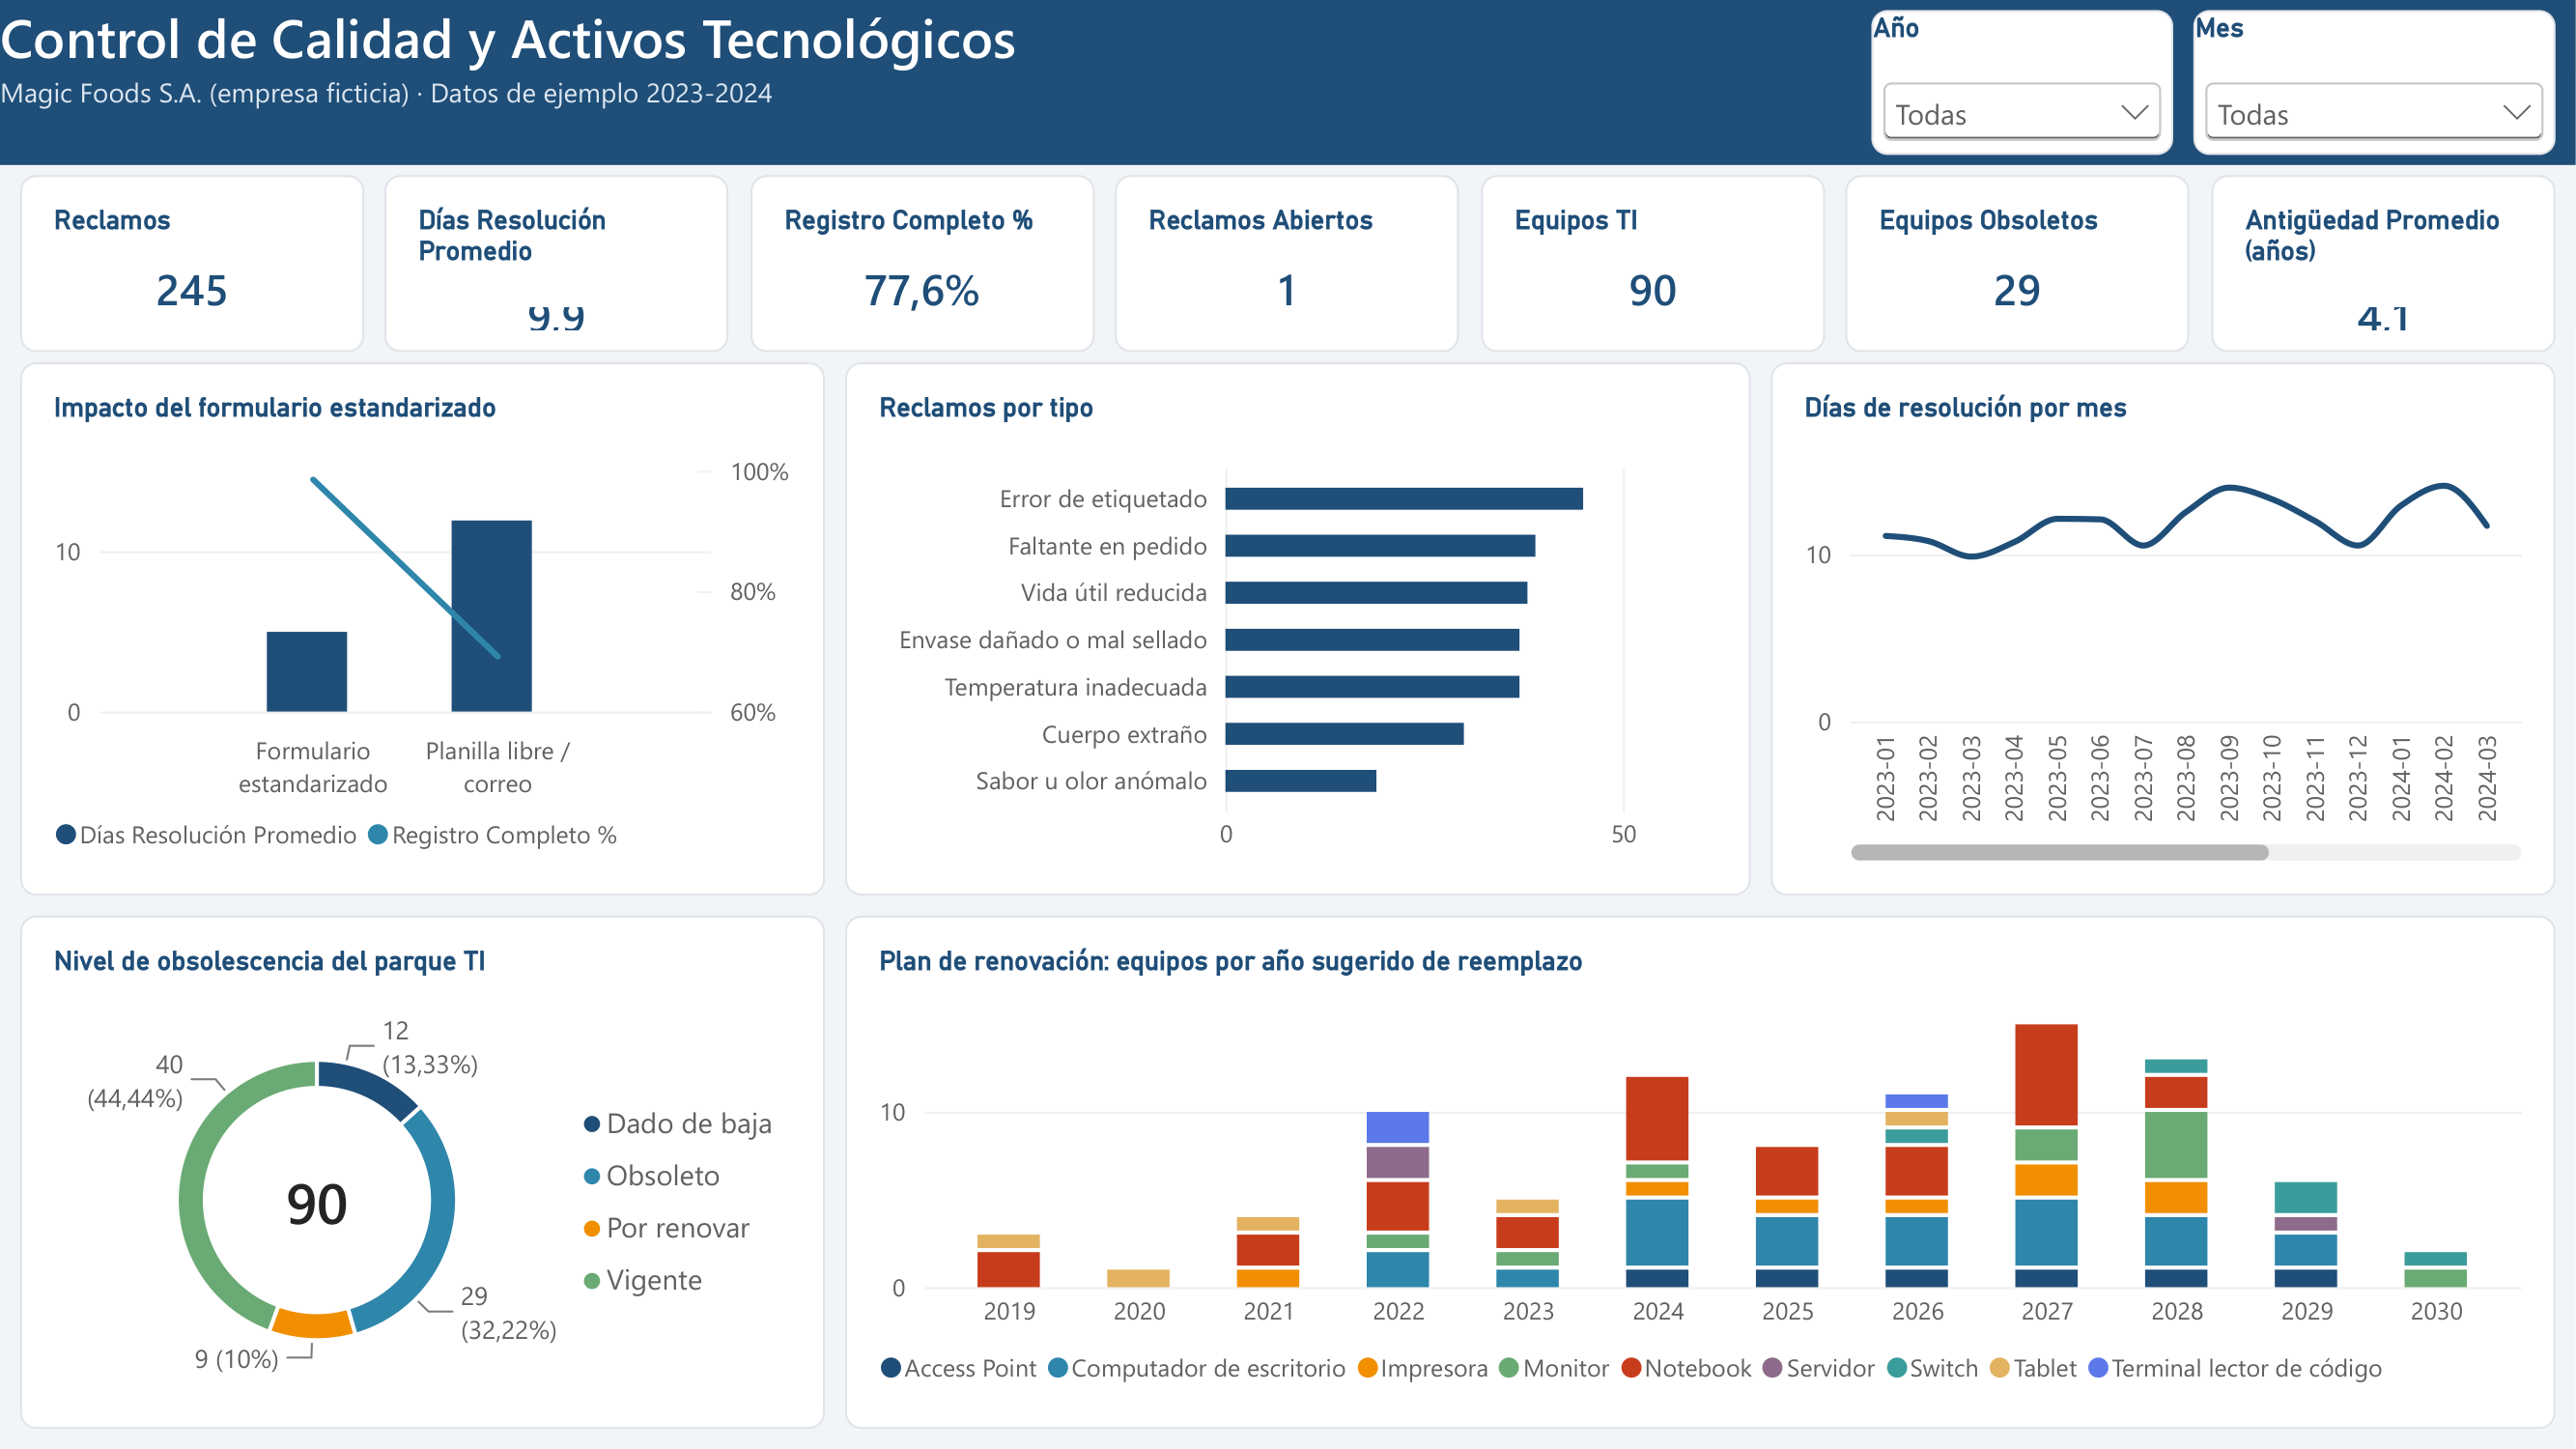

Layout of this report page (visuals, bound fields, positions):
{"tool":"tableau","page":{"name":"Calidad y Activos TI","canvas":[1280,720],"ordinal":6},"visuals":[{"type":"text","box":[0,0,1280,82]},{"type":"parameter","param":"[Parameters].[pAnio]","box":[930,8,150,66]},{"type":"parameter","param":"[Parameters].[pMes]","box":[1090,8,180,66]},{"type":"worksheet","title":"Q · Reclamos","mark":"Text","box":[10,87,171,88]},{"type":"worksheet","title":"Q · Dias Resolucion","mark":"Text","box":[191,87,171,88]},{"type":"worksheet","title":"Q · Registro Completo","mark":"Text","box":[373,87,171,88]},{"type":"worksheet","title":"Q · Reclamos Abiertos","mark":"Text","box":[554,87,171,88]},{"type":"worksheet","title":"Q · Equipos TI","mark":"Text","box":[736,87,171,88]},{"type":"worksheet","title":"Q · Equipos Obsoletos","mark":"Text","box":[917,87,171,88]},{"type":"worksheet","title":"Q · Antiguedad","mark":"Text","box":[1099,87,171,88]},{"type":"worksheet","title":"Q · Impacto Formulario","mark":"Automatic","rows":["DiasRes","RegComp"],"cols":["OrigenRegistro"],"box":[10,180,400,265]},{"type":"worksheet","title":"Q · Reclamos por Tipo","mark":"Bar","rows":["TipoReclamo"],"cols":["NRecl"],"box":[420,180,450,265]},{"type":"worksheet","title":"Q · Dias Resolucion Mes","mark":"Line","rows":["DiasRes"],"cols":["FechaReclamo"],"box":[880,180,390,265]},{"type":"worksheet","title":"Q · Obsolescencia","mark":"Pie","box":[10,455,280,255]},{"type":"worksheet","title":"Q · Plan Renovacion","mark":"Bar","rows":["NEq"],"cols":["AnioRenovacion"],"box":[420,455,730,255]},{"type":"legend","title":"Q · Obsolescencia","param":"[federated.01b98163bf2e949eb600fce20ae1].[none:NivelObsolescencia:nk]","box":[290,487,112,215]},{"type":"legend","title":"Q · Plan Renovacion","param":"[federated.01b98163bf2e949eb600fce20ae1].[none:TipoEquipo:nk]","box":[1150,487,112,215]}]}

Visuals, with their boxes in screenshot pixels (x1, y1, x2, y2), scaled from the page's 1280x720 canvas onto the 2576x1449 screenshot:
text: box(0, 0, 2575, 165)
parameter: box(1872, 16, 2173, 149)
parameter: box(2194, 16, 2556, 149)
"Q · Reclamos" worksheet (Text marks): box(20, 175, 364, 353)
"Q · Dias Resolucion" worksheet (Text marks): box(384, 175, 728, 353)
"Q · Registro Completo" worksheet (Text marks): box(750, 175, 1094, 353)
"Q · Reclamos Abiertos" worksheet (Text marks): box(1115, 175, 1459, 353)
"Q · Equipos TI" worksheet (Text marks): box(1482, 175, 1826, 353)
"Q · Equipos Obsoletos" worksheet (Text marks): box(1846, 175, 2190, 353)
"Q · Antiguedad" worksheet (Text marks): box(2212, 175, 2556, 353)
"Q · Impacto Formulario" worksheet: box(20, 362, 825, 895)
"Q · Reclamos por Tipo" worksheet (Bar marks): box(845, 362, 1751, 895)
"Q · Dias Resolucion Mes" worksheet (Line marks): box(1771, 362, 2556, 895)
"Q · Obsolescencia" worksheet (Pie marks): box(20, 916, 583, 1429)
"Q · Plan Renovacion" worksheet (Bar marks): box(845, 916, 2314, 1429)
"Q · Obsolescencia" legend: box(583, 980, 809, 1412)
"Q · Plan Renovacion" legend: box(2314, 980, 2539, 1412)
